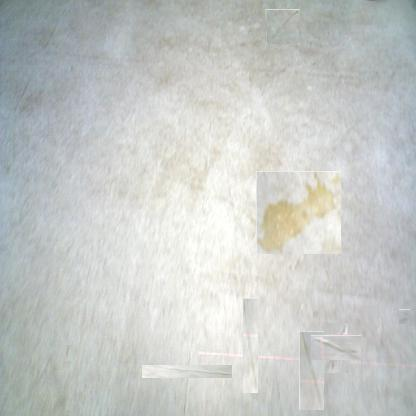liquid: (256, 171, 341, 254), (161, 345, 213, 397), (299, 331, 324, 410), (318, 329, 355, 367)
mark: (242, 298, 258, 393), (265, 9, 300, 44), (398, 310, 411, 324), (64, 345, 72, 361), (330, 325, 336, 335)
